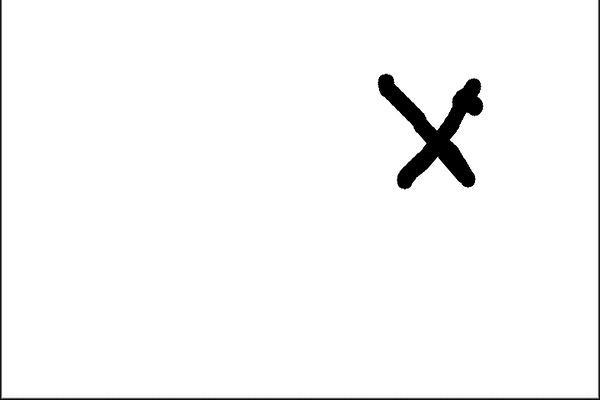X: (352, 60, 515, 203)
